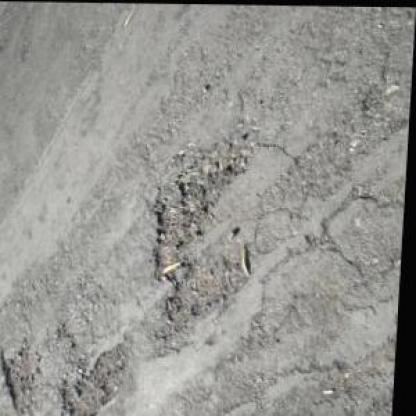pothole: (148, 138, 261, 328), (1, 335, 49, 416)
